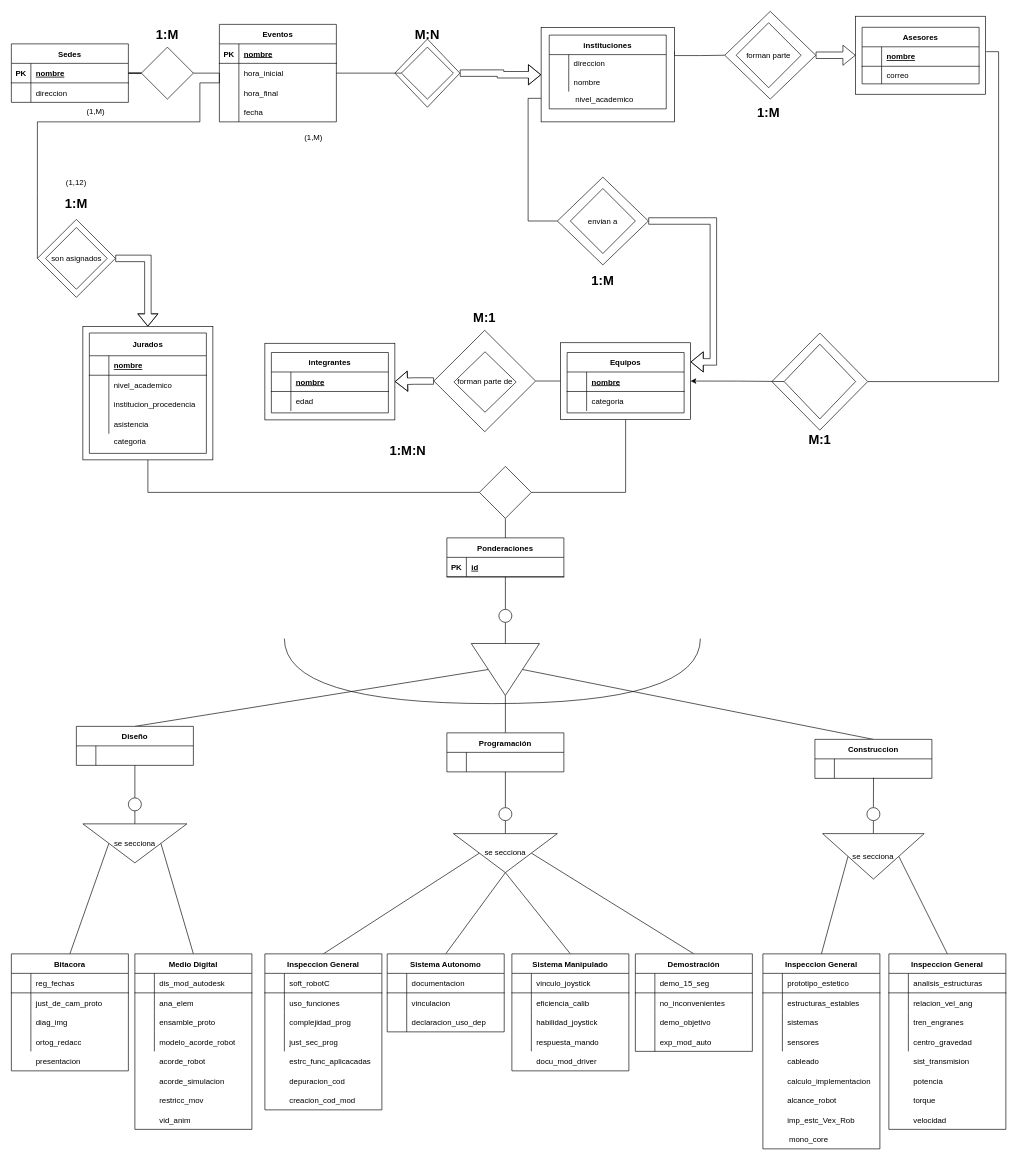
Some shapes in this 1017 by 1160 pixel diagram are drawn without their labels. The centre of each missing label's shape, as x and y in pixels:
evaluacion: (505,492)
participa: (427,72)
se refiere: (505,669)
son asesorados: (819,381)
toma lugar: (167,72)
